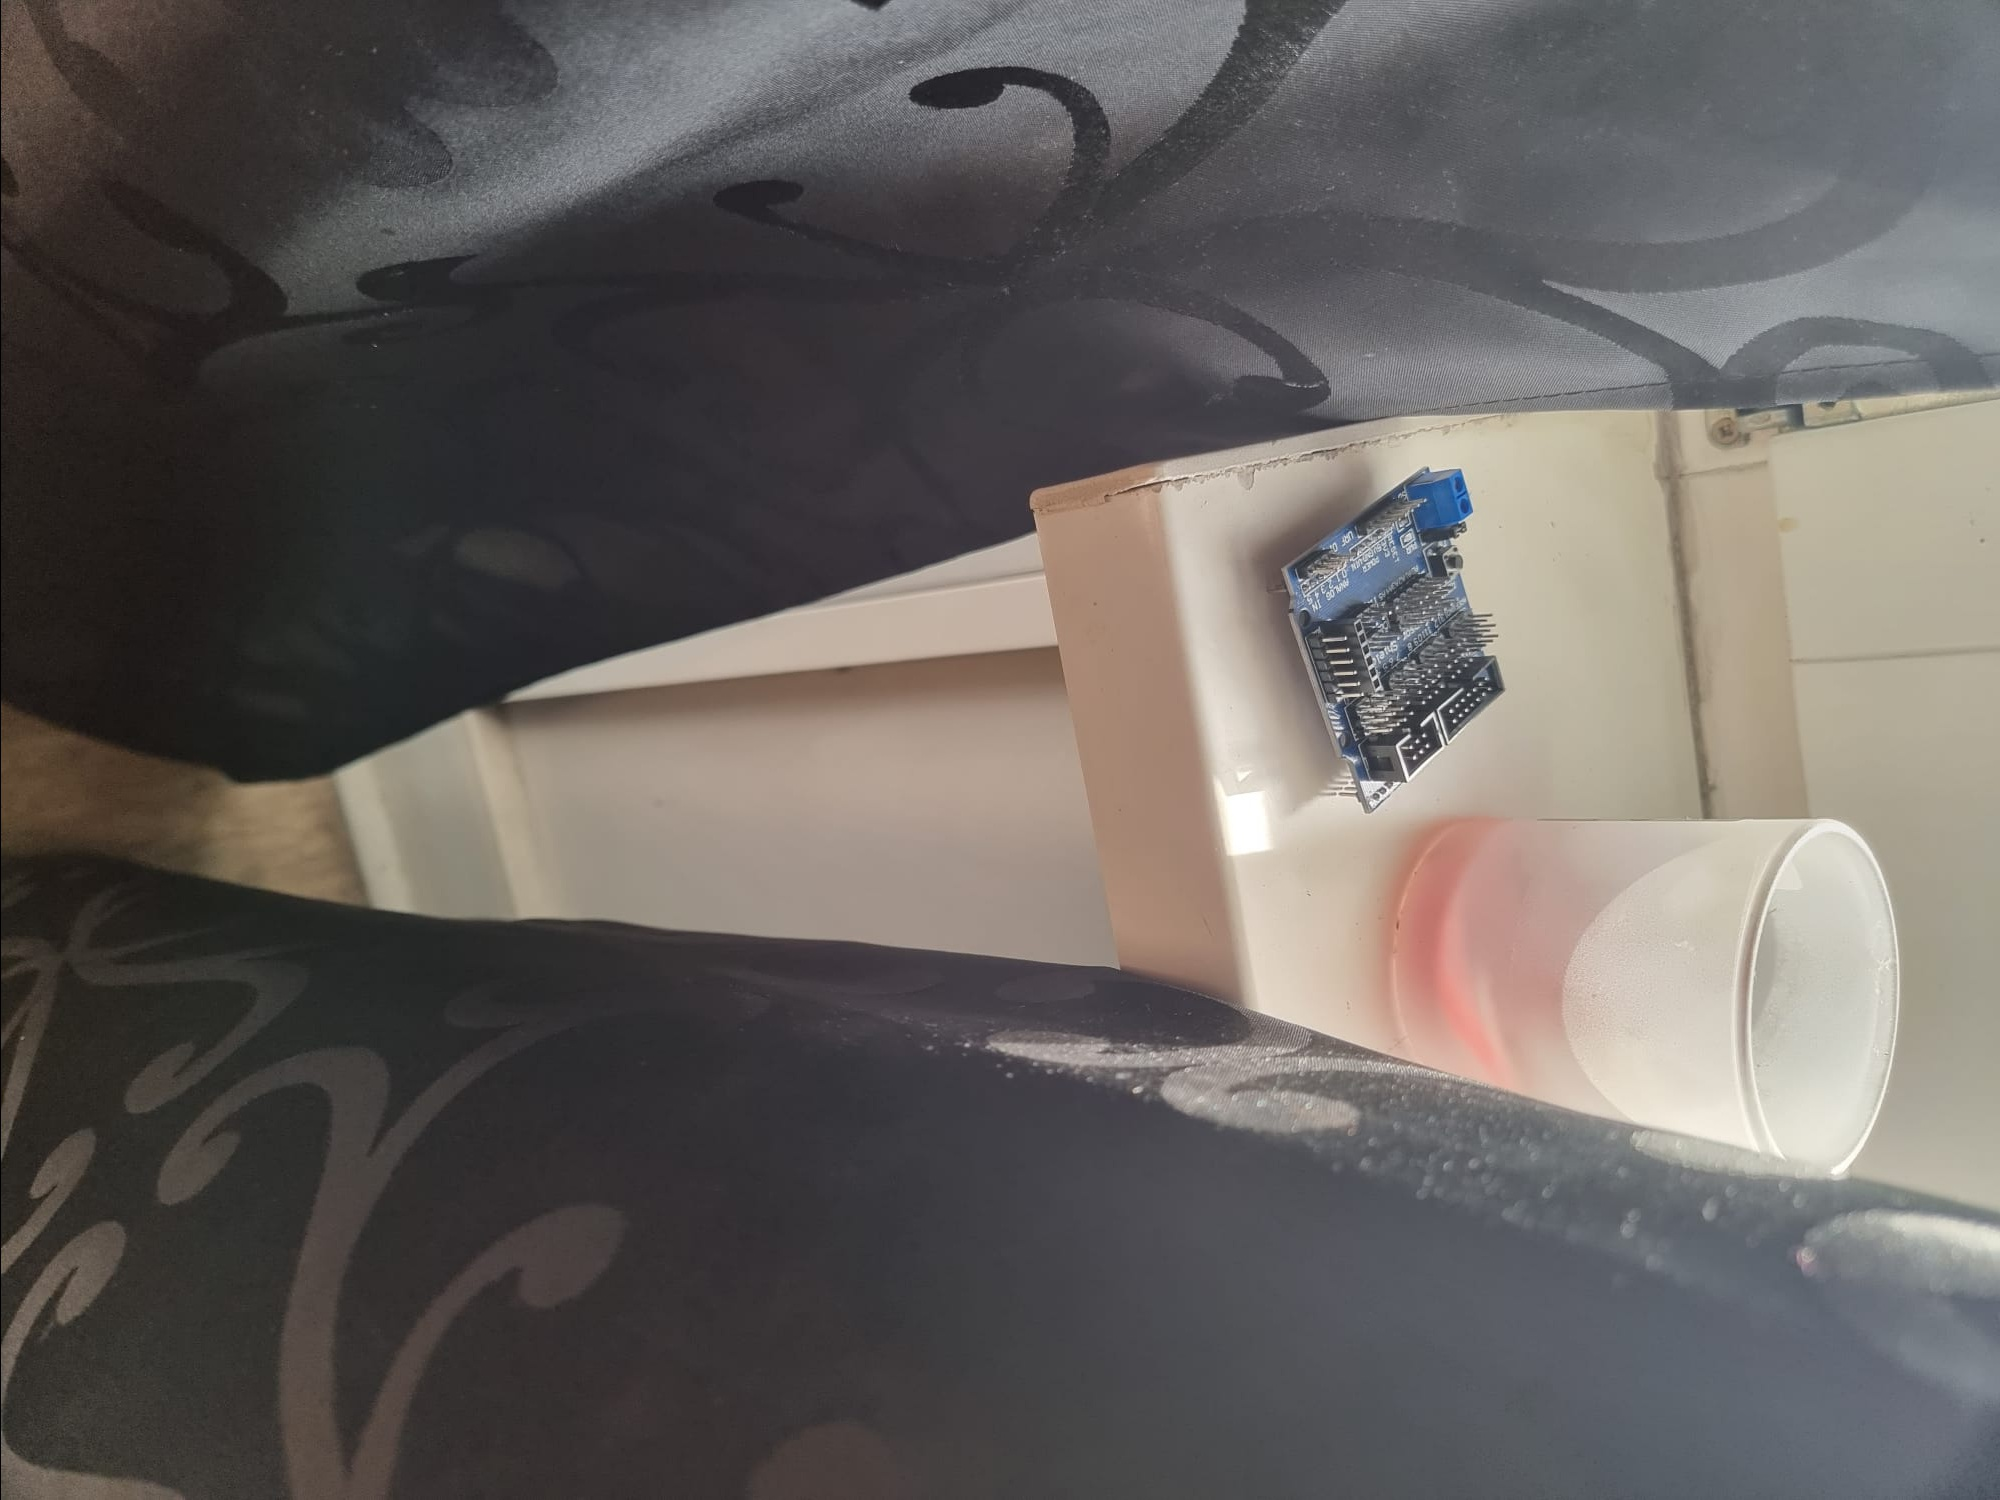5V EXPANSION: (1265, 455, 1502, 816)
